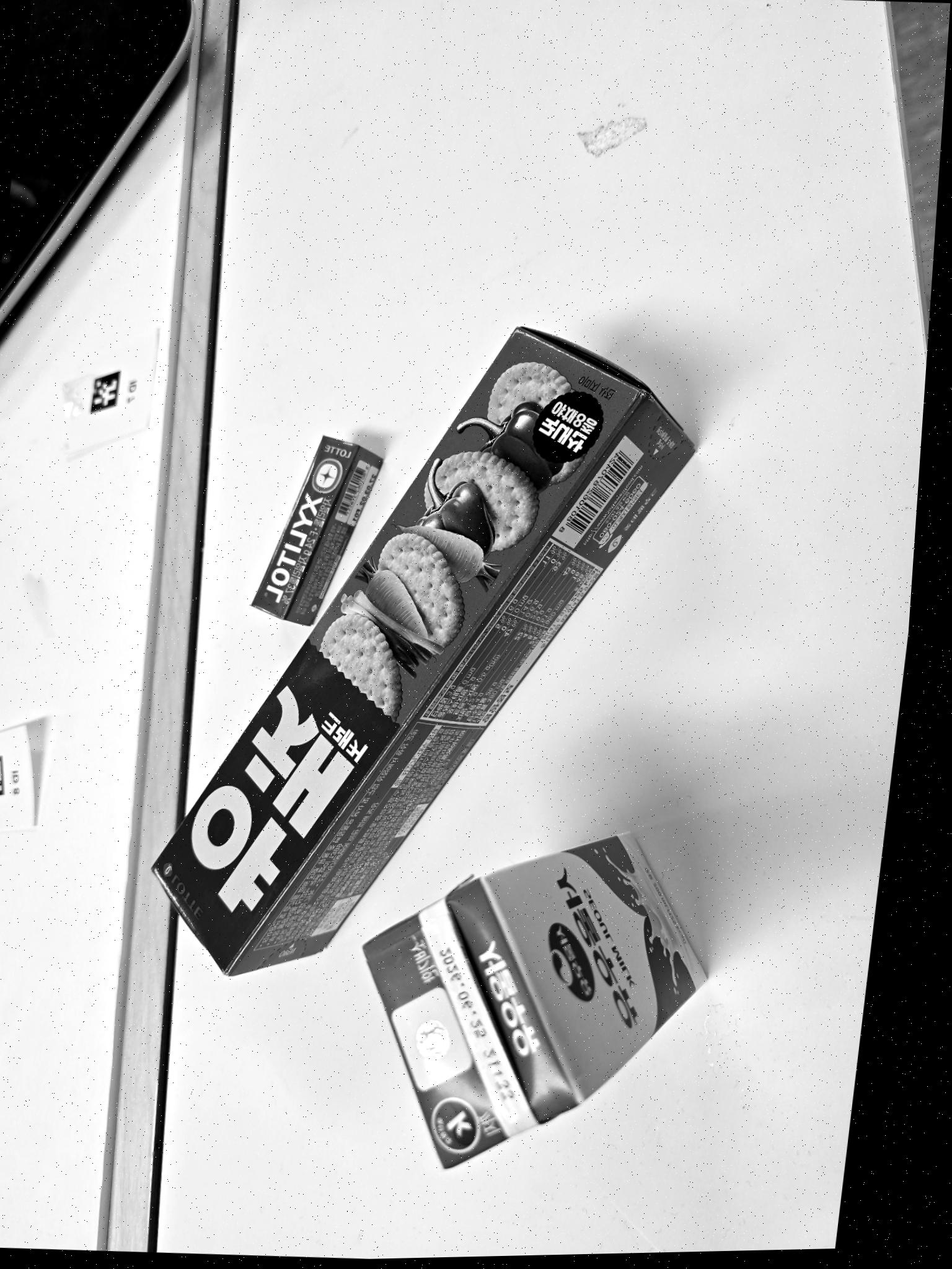cracker_vege: (152, 328, 692, 974)
gum_green: (252, 436, 381, 624)
milk_green: (364, 834, 705, 1167)
